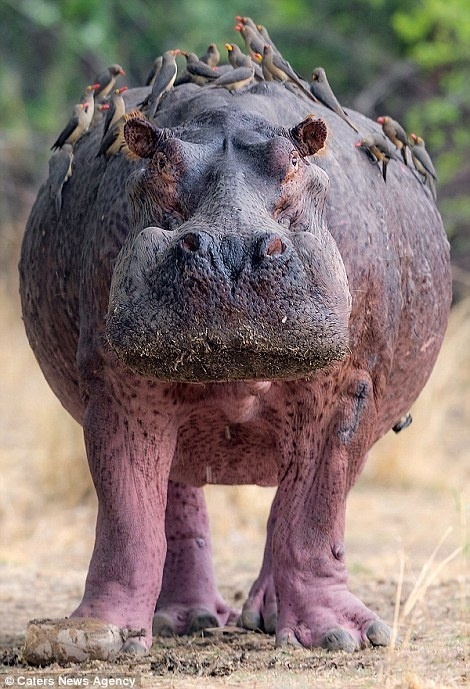hipopotamo: (1, 34, 462, 670)
